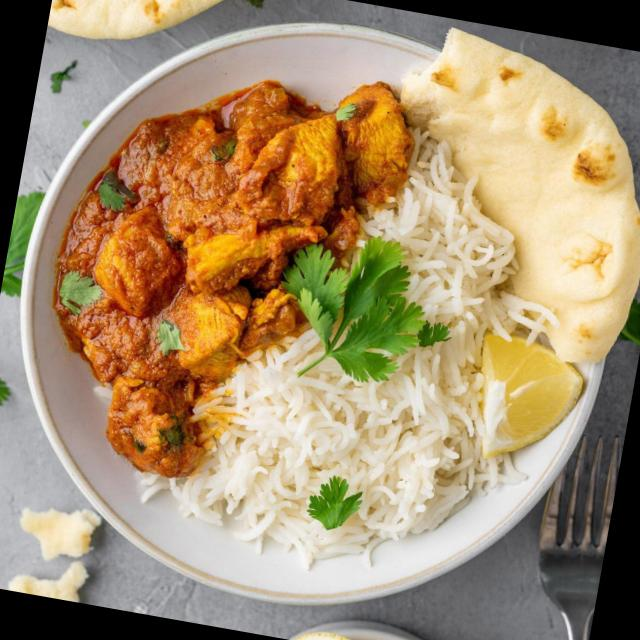chicken: (53, 76, 305, 479)
rice: (173, 376, 472, 587), (338, 208, 523, 446)
roti: (458, 30, 640, 375)
